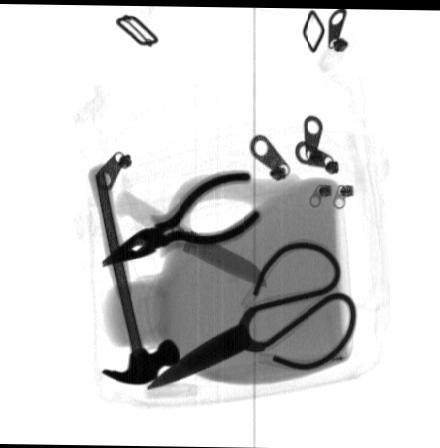Hammer: (85, 161, 182, 386)
Knife: (113, 187, 268, 289)
Pliers: (100, 168, 261, 269)
Scissors: (140, 237, 360, 393)
